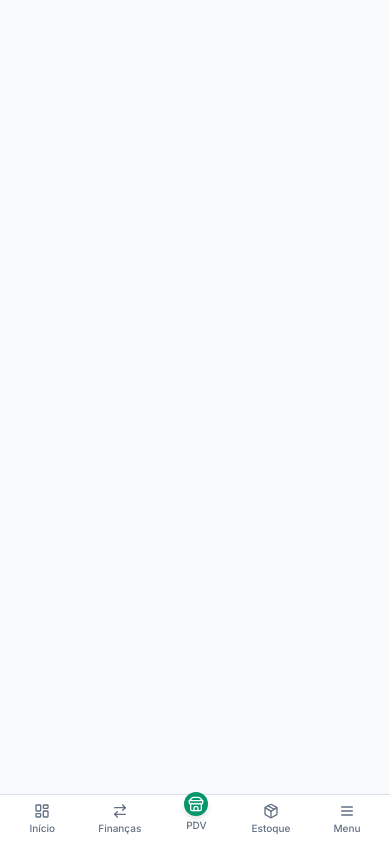
Test: Business Segment & Simplified Profile Mode › Navigation.tsx: Menus Adaptativos › deve exibir Estoque diretamente na barra mobile e ocultar Ordens de Serviço no Sheet quando retail
The image size is (390, 844).
Expected: the text "Estoque" is shown, [252,821,290,836]
Abrir o menu completo mobile (Sheet)
Click the button "Menu": x=347, y=820 [323,799,370,840]
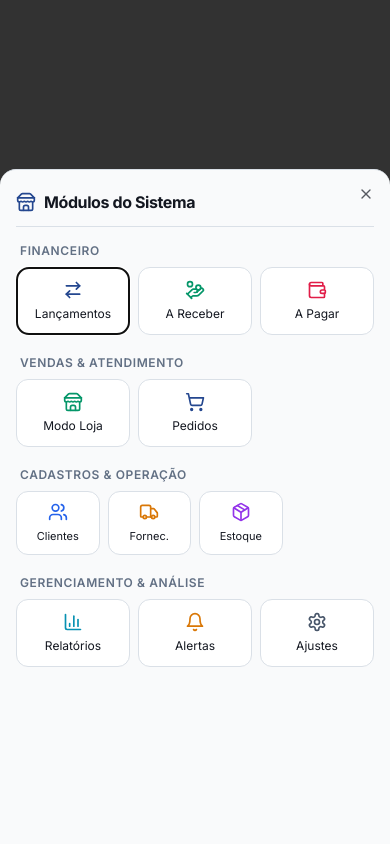
Expected: the text "Clientes" is shown, [37,528,79,544]
Expected: the text "Fornec." is shown, [130,528,169,544]
